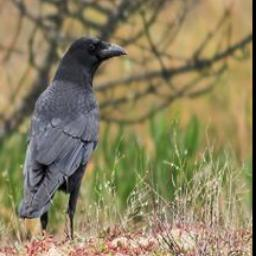Crow: (14, 35, 126, 244)
